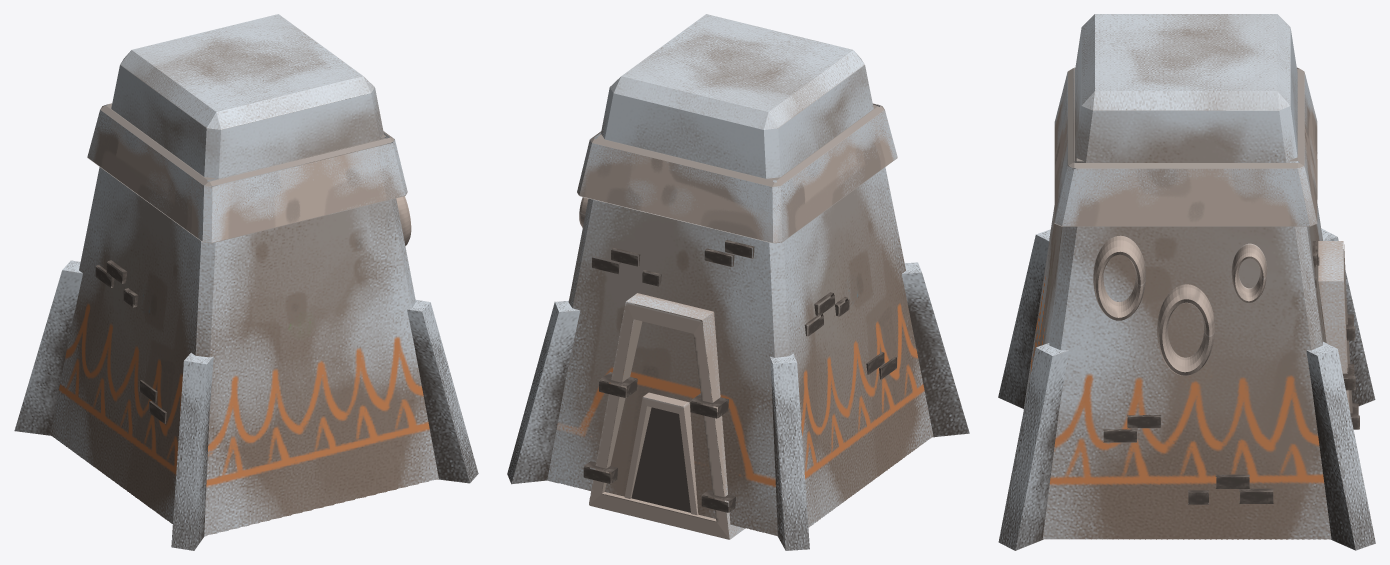
Rendered from MAISON_1.fbx.
The picture shows the model from 3 angles, left to right: view 1: azimuth 30°, elevation 25°; view 2: azimuth 150°, elevation 25°; view 3: azimuth 270°, elevation 25°; orthographic projection. The views are drawn at different scales.
Parts seen in each view (by area): view 1: Cube, Cube.001, Cube.003, Cube.005, Cube.004; view 2: Cube, Cube.001, Contour_porte.001, Cube.002, Cube.004, Cube.005, Contour_porte, Pierre_porte_1.001, Pierre_porte_2.001; view 3: Cube, Cube.001, Cube.003, Cube.002, Cube.005, Contour_porte.001, Torus, Torus.002, Cube.004, Torus.001, Pierre_porte_1.010, Pierre_porte_1.011 (+2 smaller).
Boxes of the visible parts, left/top/right/bottom form: Cube: left=50, top=14, right=438, bottom=536; Cube.001: left=87, top=101, right=407, bottom=243; Cube.003: left=407, top=300, right=478, bottom=483; Cube.005: left=171, top=352, right=213, bottom=550; Cube.004: left=14, top=260, right=82, bottom=435; Cube: left=547, top=14, right=933, bottom=536; Cube.001: left=577, top=103, right=897, bottom=243; Contour_porte.001: left=589, top=293, right=744, bottom=539; Cube.002: left=507, top=300, right=580, bottom=484; Cube.004: left=770, top=353, right=809, bottom=550; Cube.005: left=901, top=262, right=969, bottom=437; Contour_porte: left=624, top=392, right=698, bottom=516; Pierre_porte_1.001: left=599, top=372, right=637, bottom=397; Pierre_porte_2.001: left=690, top=393, right=728, bottom=418; Cube: left=1023, top=14, right=1331, bottom=539; Cube.001: left=1054, top=67, right=1317, bottom=226; Cube.003: left=998, top=343, right=1068, bottom=550; Cube.002: left=1306, top=341, right=1375, bottom=550; Cube.005: left=998, top=229, right=1050, bottom=408; Contour_porte.001: left=1318, top=241, right=1352, bottom=417; Torus: left=1157, top=284, right=1214, bottom=375; Torus.002: left=1093, top=235, right=1145, bottom=320; Cube.004: left=1321, top=228, right=1375, bottom=406; Torus.001: left=1231, top=243, right=1267, bottom=302; Pierre_porte_1.010: left=1239, top=488, right=1273, bottom=503; Pierre_porte_1.011: left=1215, top=474, right=1249, bottom=488.
Bounding box in the file's own units: 227 × 285 × 226.
